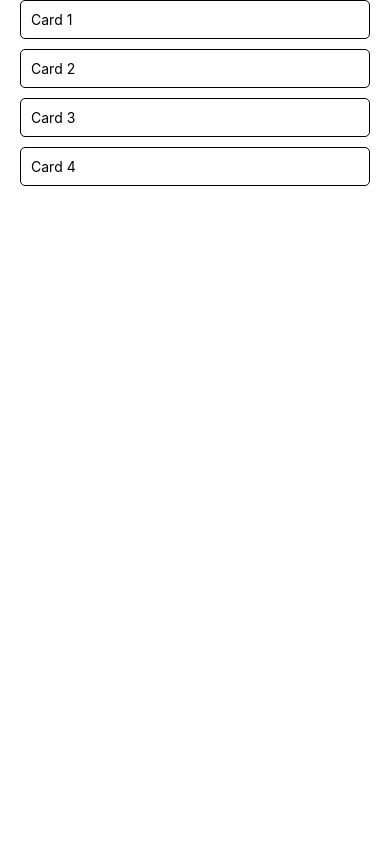
closes card1 details modal on close button press
Click the text "Card 1". click: (52, 20)
box: 31,11 -> 72,28
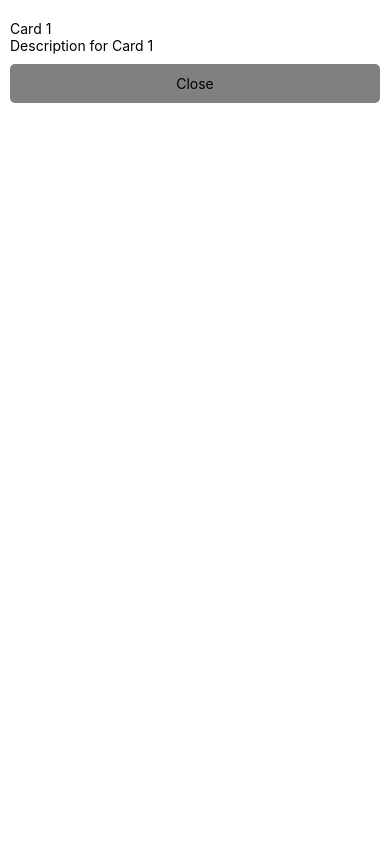
Click the text "Close". click: (195, 84)
box: 176,75 -> 214,92
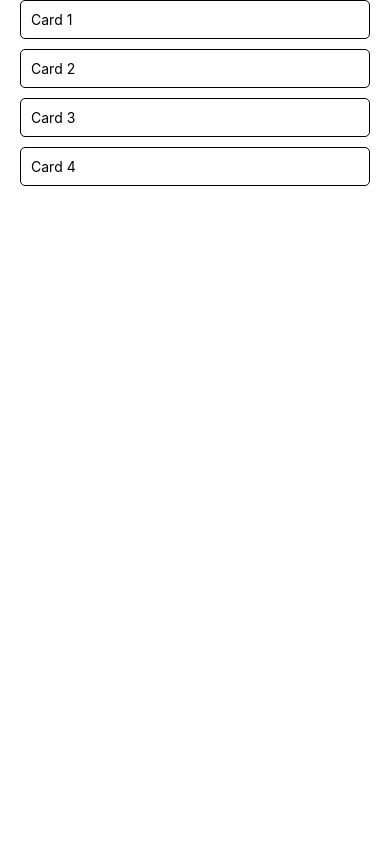
expect the text "Description for Card 1" is gone: met
